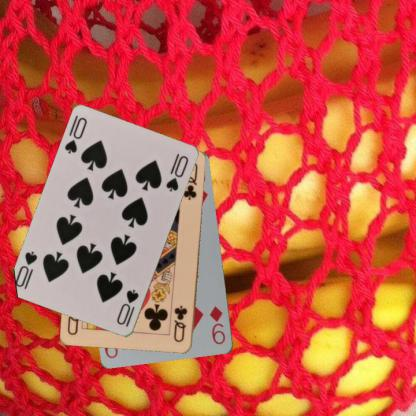10s: (114, 287, 140, 329), (62, 115, 88, 156)
9d: (207, 304, 227, 346)
Qc: (172, 303, 188, 344)
